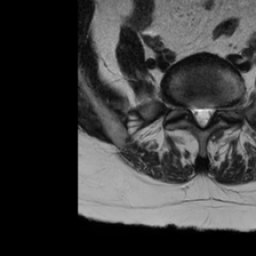CCS_normal: (199, 96, 205, 135)
LFS_severe_stenosis: (215, 97, 224, 121)
LLS_stenosis: (205, 97, 215, 124)
RFS_severe_stenosis: (181, 95, 189, 119)
RLS_normal: (189, 99, 199, 126)
